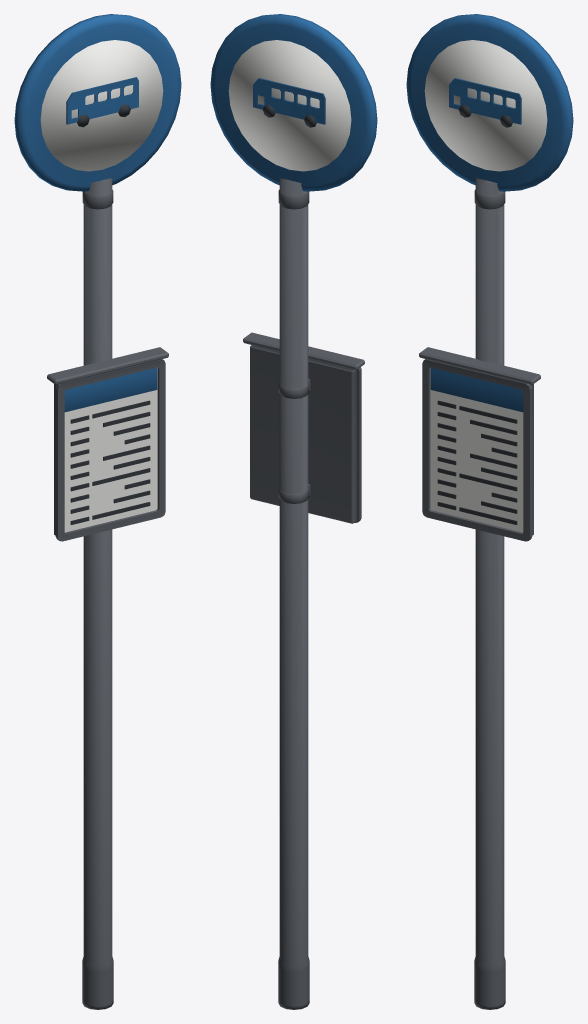
Rendered from busSign.glb.
3 views of the same model, side by side, from view 1: azimuth 30°, elevation 25°; view 2: azimuth 150°, elevation 25°; view 3: azimuth 330°, elevation 25° (orthographic).
Visible parts, largest first — view 1: busSign; view 2: busSign; view 3: busSign.
Boxes of the visible parts, <box> form: busSign: <box>14,14,181,1009</box>; busSign: <box>210,14,377,1009</box>; busSign: <box>406,14,573,1009</box>.
Size of the model in its own units: 0.46 by 2.63 by 0.1077.
